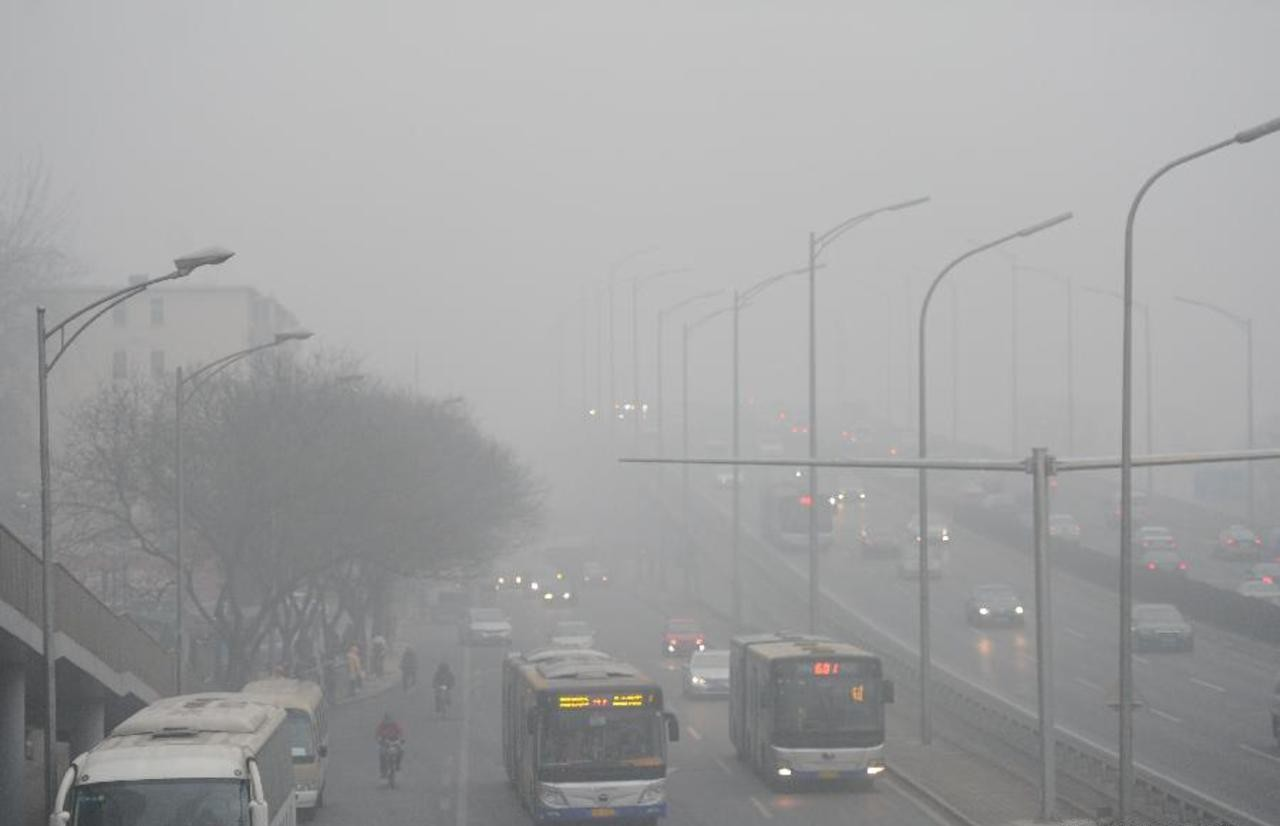bicycle: (380, 739, 407, 781), (400, 665, 418, 696), (433, 683, 451, 713)
bus: (55, 694, 296, 821), (507, 647, 671, 823), (728, 632, 889, 790), (236, 679, 325, 808), (758, 467, 834, 556)
car: (1129, 602, 1193, 653), (966, 582, 1026, 630), (685, 645, 735, 700), (454, 609, 515, 647), (895, 544, 942, 580), (1209, 526, 1259, 559), (662, 620, 707, 656), (907, 512, 949, 548), (857, 519, 899, 555), (549, 620, 598, 650), (1139, 554, 1190, 579), (1130, 525, 1174, 552), (835, 470, 868, 504), (1048, 514, 1081, 544)
person: (346, 644, 363, 699), (385, 716, 403, 760), (370, 635, 386, 683), (435, 666, 453, 695), (402, 648, 416, 681)
